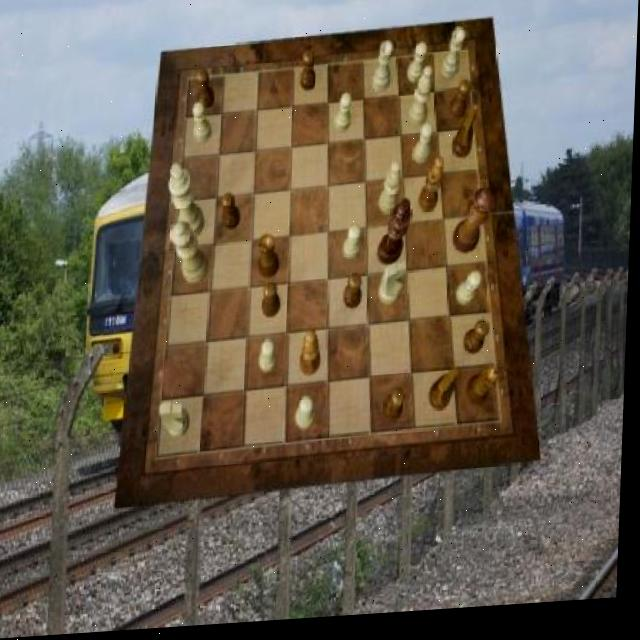bishop: (418, 163, 444, 218), (301, 333, 324, 380)
black-bishop: (378, 204, 413, 272)
black-king: (453, 115, 479, 167), (430, 374, 460, 418)
black-knight: (448, 86, 472, 127), (466, 328, 493, 363), (386, 393, 408, 429), (196, 72, 216, 111), (222, 196, 243, 233), (345, 279, 364, 316), (265, 285, 284, 322), (301, 56, 318, 97)
black-pawn: (454, 192, 498, 260)
black-queen: (468, 373, 502, 415), (260, 239, 283, 284)
black-rook: (408, 73, 433, 134), (378, 166, 402, 221)
white-bishop: (168, 164, 207, 244)
white-king: (380, 266, 408, 311), (160, 403, 192, 442)
white-knight: (192, 104, 214, 146), (458, 277, 483, 313), (408, 48, 428, 91), (414, 130, 434, 171), (298, 400, 319, 435), (334, 98, 352, 138), (345, 230, 364, 264), (262, 343, 280, 378)
white-pawn: (171, 223, 212, 289)
white-queen: (440, 34, 464, 86), (372, 45, 394, 97)
